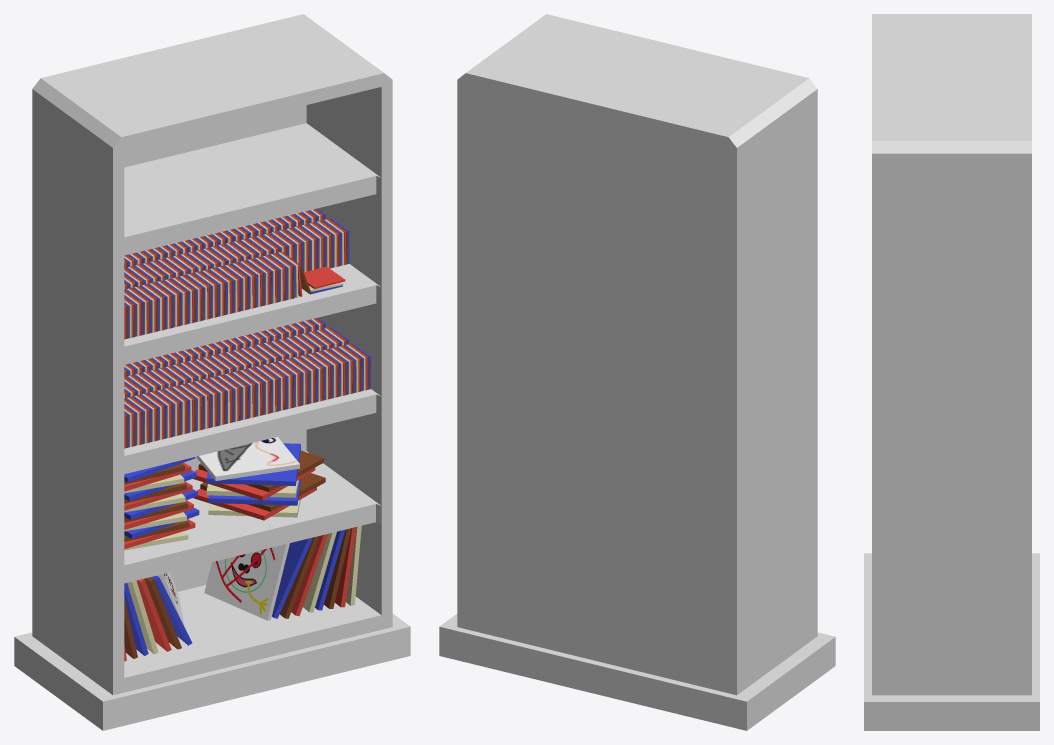
Rendered from Armoire_a_CDs.fbx.
3 renders of one model, left to right at view 1: azimuth 30°, elevation 25°; view 2: azimuth 150°, elevation 25°; view 3: azimuth 270°, elevation 25°, orthographic.
Visible parts, largest first — view 1: Armoire à cd, Cube.007, Cube.008, Cube.002, Cube.004, Cube.005, Cube.003, Cube.001, Cube.006; view 2: Armoire à cd; view 3: Armoire à cd.
Part boxes in pixels (x1,y1,x2,y2): Armoire à cd: [14, 14, 410, 730]; Cube.007: [124, 317, 371, 448]; Cube.008: [124, 208, 349, 339]; Cube.002: [272, 525, 361, 618]; Cube.004: [124, 457, 199, 550]; Cube.005: [193, 443, 325, 520]; Cube.003: [204, 543, 289, 620]; Cube.001: [124, 575, 192, 661]; Cube.006: [196, 437, 299, 480]; Armoire à cd: [439, 14, 835, 730]; Armoire à cd: [864, 14, 1039, 730].
Bounding box in the file's own units: 220 × 400 × 110.
